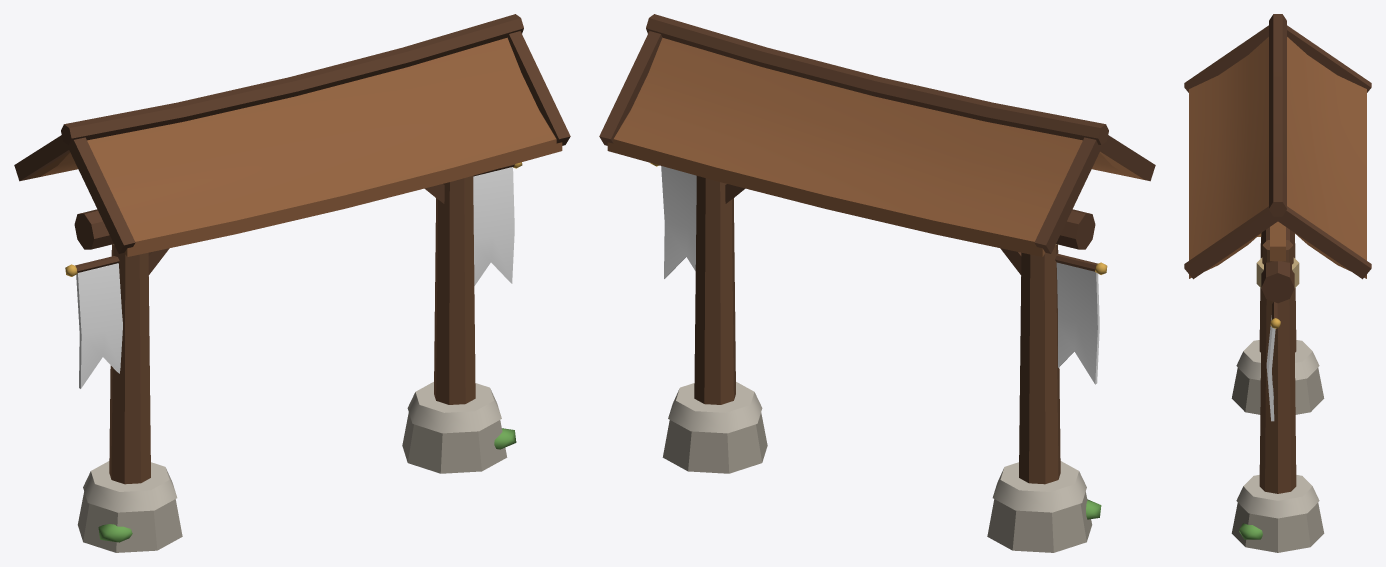
The model's file is village-gate-wood.glb.
3 renders of one model, left to right at view 1: azimuth 30°, elevation 25°; view 2: azimuth 150°, elevation 25°; view 3: azimuth 270°, elevation 25°, orthographic. The views are drawn at different scales.
Visible parts, largest first — view 1: Part_WoodWarm, Part_TimberDark, Part_Bark, Part_RoofTint, Part_StoneMid, Part_StoneLight, Part_Moss; view 2: Part_WoodWarm, Part_Bark, Part_TimberDark, Part_StoneMid, Part_RoofTint, Part_StoneLight; view 3: Part_WoodWarm, Part_TimberDark, Part_Bark, Part_StoneMid, Part_StoneLight, Part_RoofTint, Part_Rope, Part_Moss.
Boxes of the visible parts, x1=… form: Part_WoodWarm: x1=24, y1=37, x2=562, y2=256; Part_TimberDark: x1=14, y1=14, x2=570, y2=275; Part_Bark: x1=109, y1=176, x2=475, y2=484; Part_RoofTint: x1=76, y1=167, x2=514, y2=388; Part_StoneMid: x1=77, y1=412, x2=507, y2=552; Part_StoneLight: x1=83, y1=382, x2=501, y2=512; Part_Moss: x1=98, y1=428, x2=516, y2=542; Part_WoodWarm: x1=607, y1=37, x2=1145, y2=256; Part_Bark: x1=694, y1=176, x2=1060, y2=484; Part_TimberDark: x1=599, y1=14, x2=1155, y2=275; Part_StoneMid: x1=662, y1=412, x2=1092, y2=552; Part_RoofTint: x1=661, y1=166, x2=1099, y2=384; Part_StoneLight: x1=668, y1=382, x2=1086, y2=512; Part_WoodWarm: x1=1189, y1=37, x2=1366, y2=278; Part_TimberDark: x1=1184, y1=14, x2=1371, y2=319; Part_Bark: x1=1259, y1=233, x2=1296, y2=493; Part_StoneMid: x1=1231, y1=367, x2=1324, y2=552; Part_StoneLight: x1=1236, y1=340, x2=1319, y2=518; Part_RoofTint: x1=1266, y1=315, x2=1275, y2=421; Part_Rope: x1=1256, y1=257, x2=1299, y2=288; Part_Moss: x1=1239, y1=523, x2=1262, y2=539.
Size of the model in its own units: 3.87 by 3.41 by 1.62.
